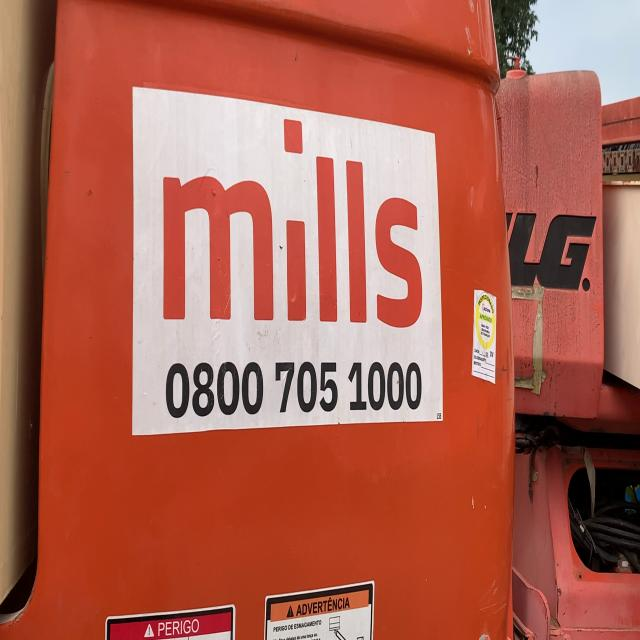Adesivos: (130, 77, 445, 440)
